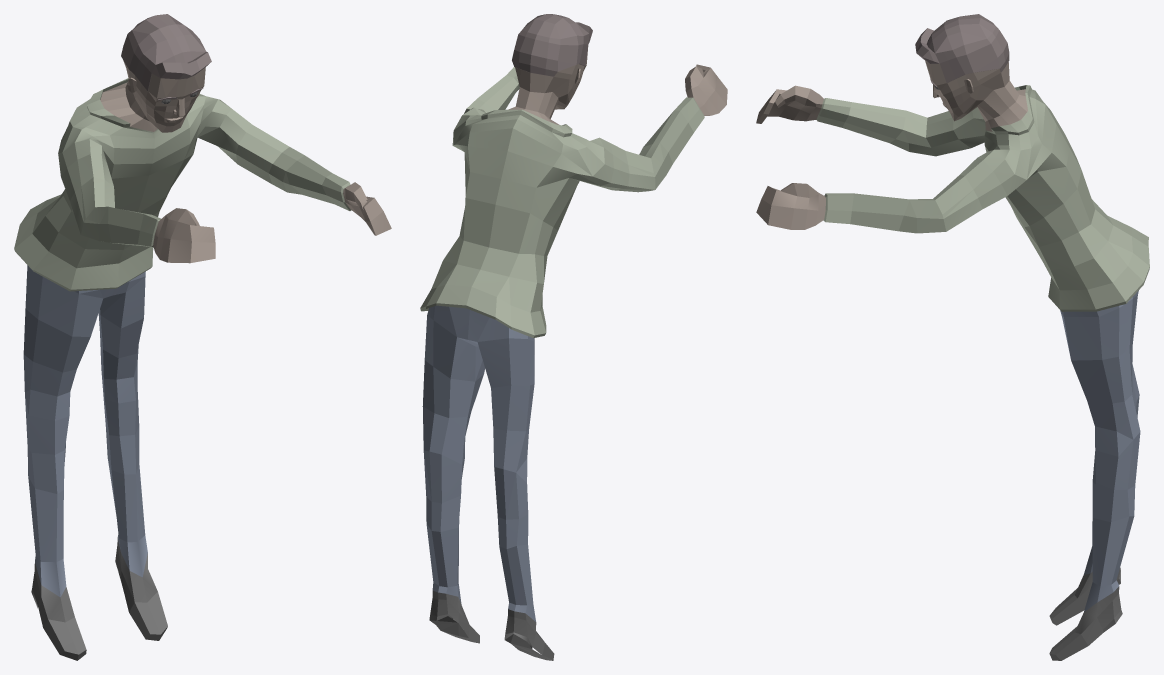
Rendered from celebrate.glb.
3 renders of one model, left to right at view 1: azimuth 30°, elevation 25°; view 2: azimuth 150°, elevation 25°; view 3: azimuth 270°, elevation 25°, orthographic. The views are drawn at different scales.
Parts seen in each view (by area): view 1: BaseHuman_baked; view 2: BaseHuman_baked; view 3: BaseHuman_baked.
Boxes of the visible parts, x1=… form: BaseHuman_baked: x1=14, y1=14, x2=391, y2=660; BaseHuman_baked: x1=420, y1=14, x2=727, y2=660; BaseHuman_baked: x1=756, y1=14, x2=1149, y2=660.
Bounding box in the file's own units: 1.8 × 5.12 × 2.93.
